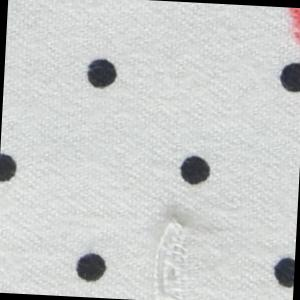Damage: (141, 207, 209, 300)
Stain: (281, 8, 300, 62)
